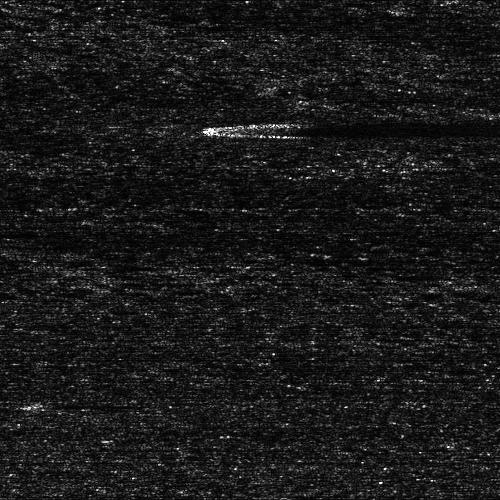rock: (187, 121, 302, 134), (7, 400, 70, 409), (435, 282, 500, 289), (288, 96, 351, 101)
shadow: (245, 121, 500, 134), (39, 400, 153, 409), (320, 96, 449, 101), (0, 230, 76, 235), (472, 282, 500, 289)
